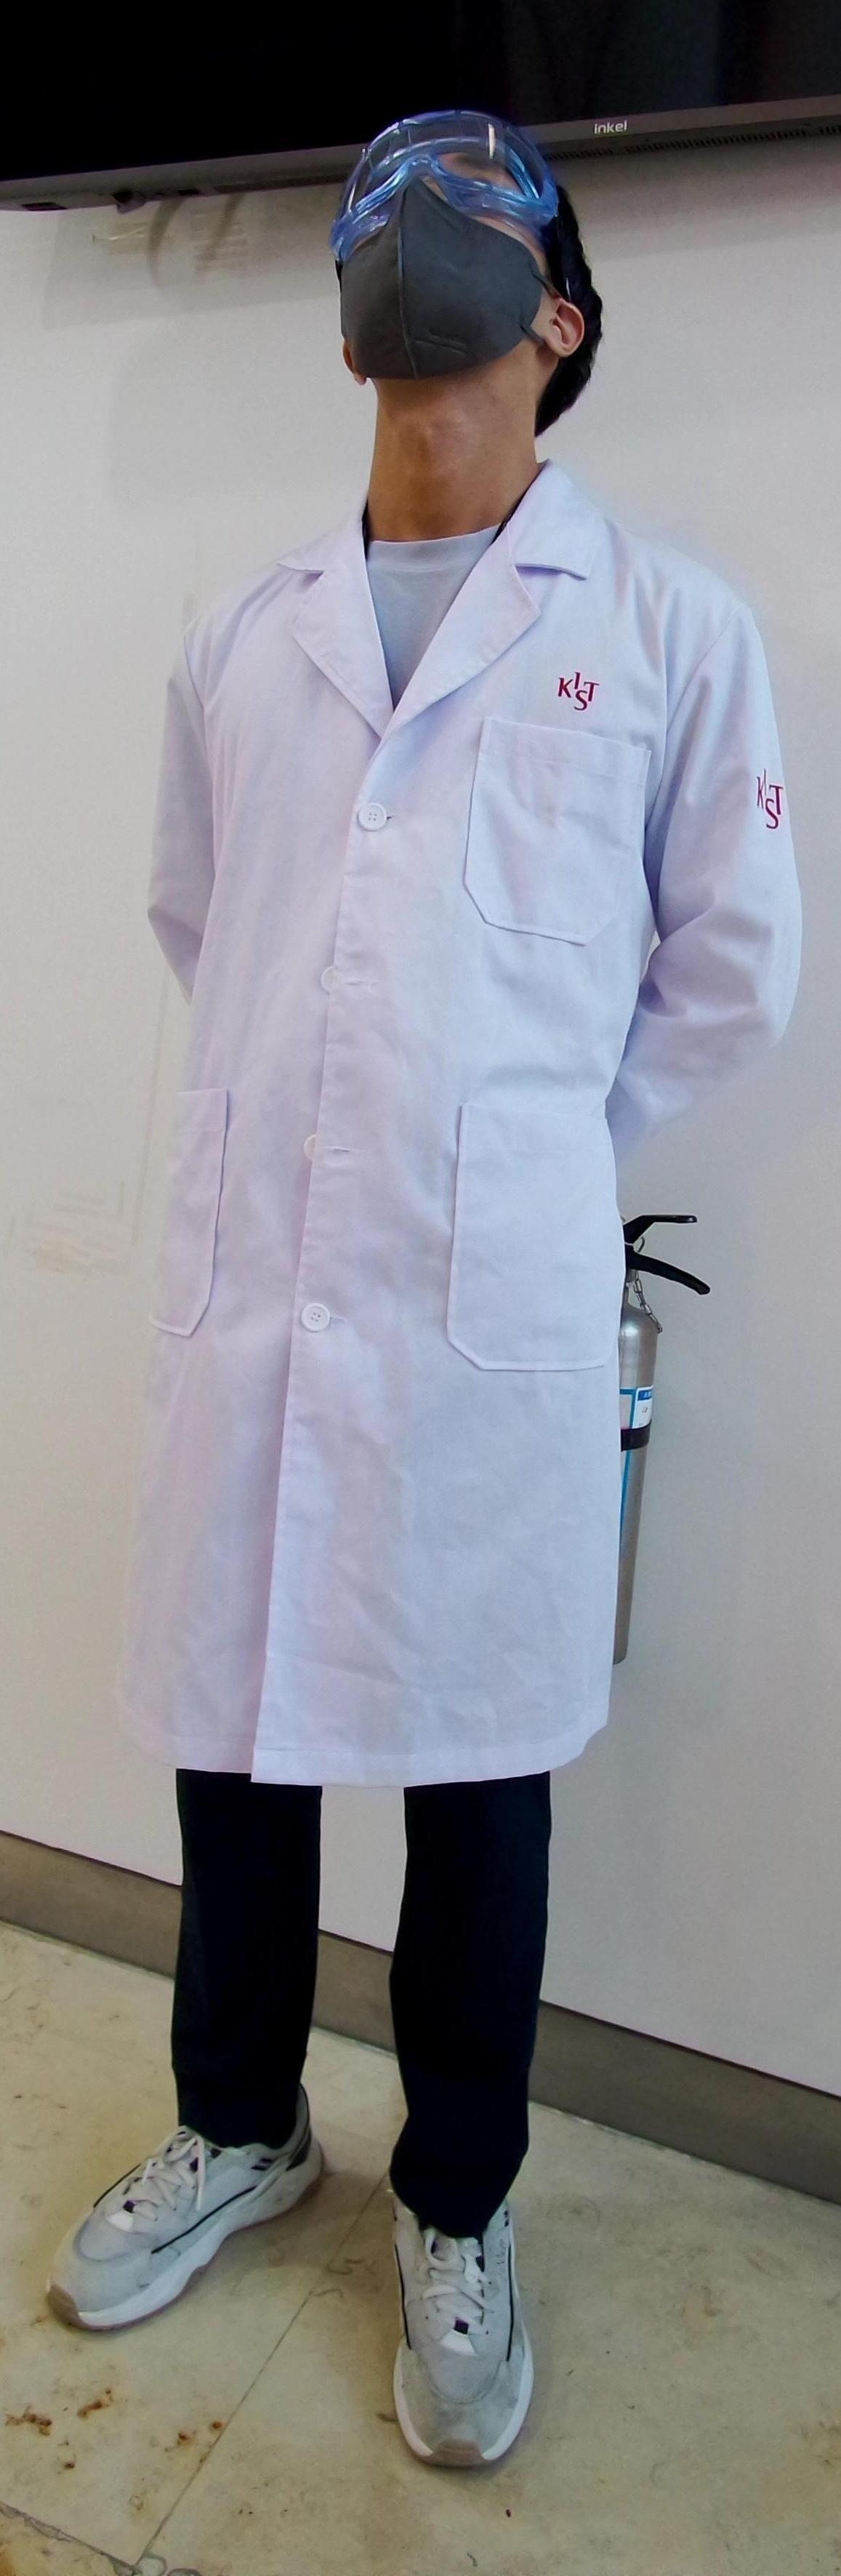lab_coat: (61, 511, 798, 1773)
